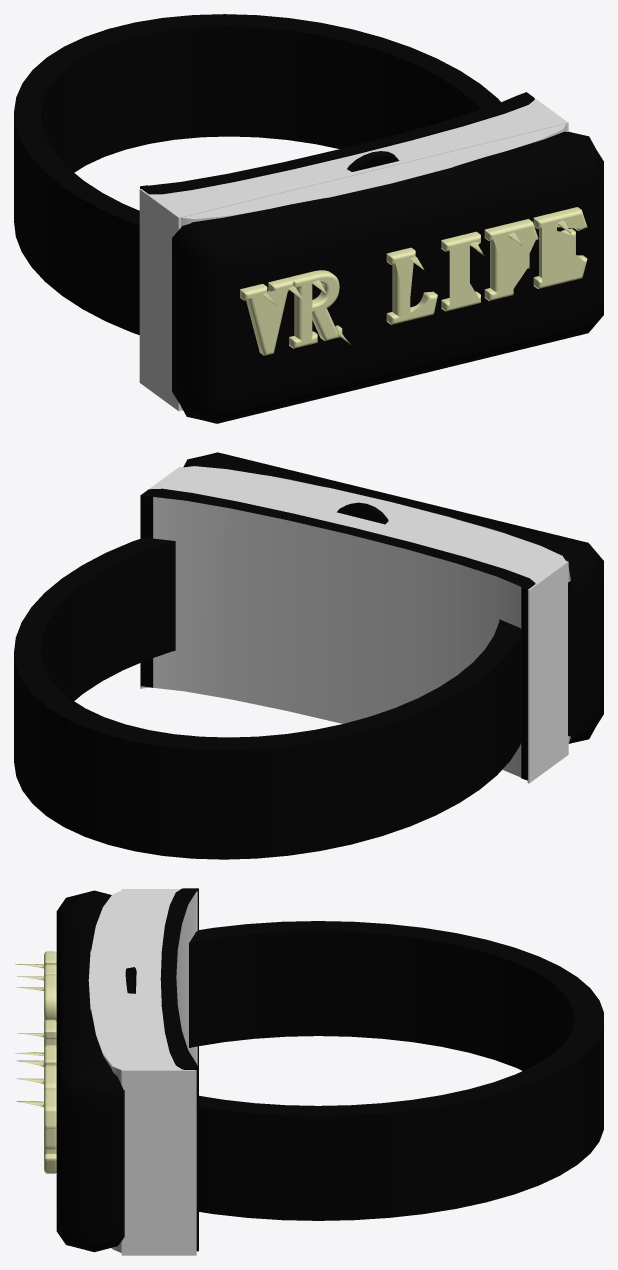
Rendered from VR_LIVE.fbx.
3 views of the same model, one above another, from view 1: azimuth 30°, elevation 25°; view 2: azimuth 150°, elevation 25°; view 3: azimuth 270°, elevation 25° (orthographic). The views are drawn at different scales.
Parts seen in each view (by area): view 1: pCube2, pPipe3, pasted__pCube2, polySurface1, group9_pasted__group4_pasted__pasted__pasted__pCube2, pPipe1; view 2: pPipe3, group9_pasted__group4_pasted__pasted__pasted__pCube2, pasted__pCube2, pCube2, pPipe1; view 3: pPipe3, pasted__pCube2, pCube2, group9_pasted__group4_pasted__pasted__pasted__pCube2, polySurface1.
Part boxes in pixels (x1,y1,x2,y2): pCube2: (172,131,603,423); pPipe3: (14,14,500,334); pasted__pCube2: (139,98,568,411); polySurface1: (240,207,587,355); group9_pasted__group4_pasted__pasted__pasted__pCube2: (140,92,534,194); pPipe1: (347,151,399,171); pPipe3: (14,537,522,859); group9_pasted__group4_pasted__pasted__pasted__pCube2: (140,488,535,779); pasted__pCube2: (140,466,568,783); pCube2: (183,452,603,743); pPipe1: (337,502,388,524); pPipe3: (189,921,603,1220); pasted__pCube2: (88,889,196,1255); pCube2: (56,890,124,1252); group9_pasted__group4_pasted__pasted__pasted__pCube2: (160,888,198,1251); polySurface1: (14,951,56,1173).
Size of the model in its own units: 2.04 by 0.9612 by 2.61.
